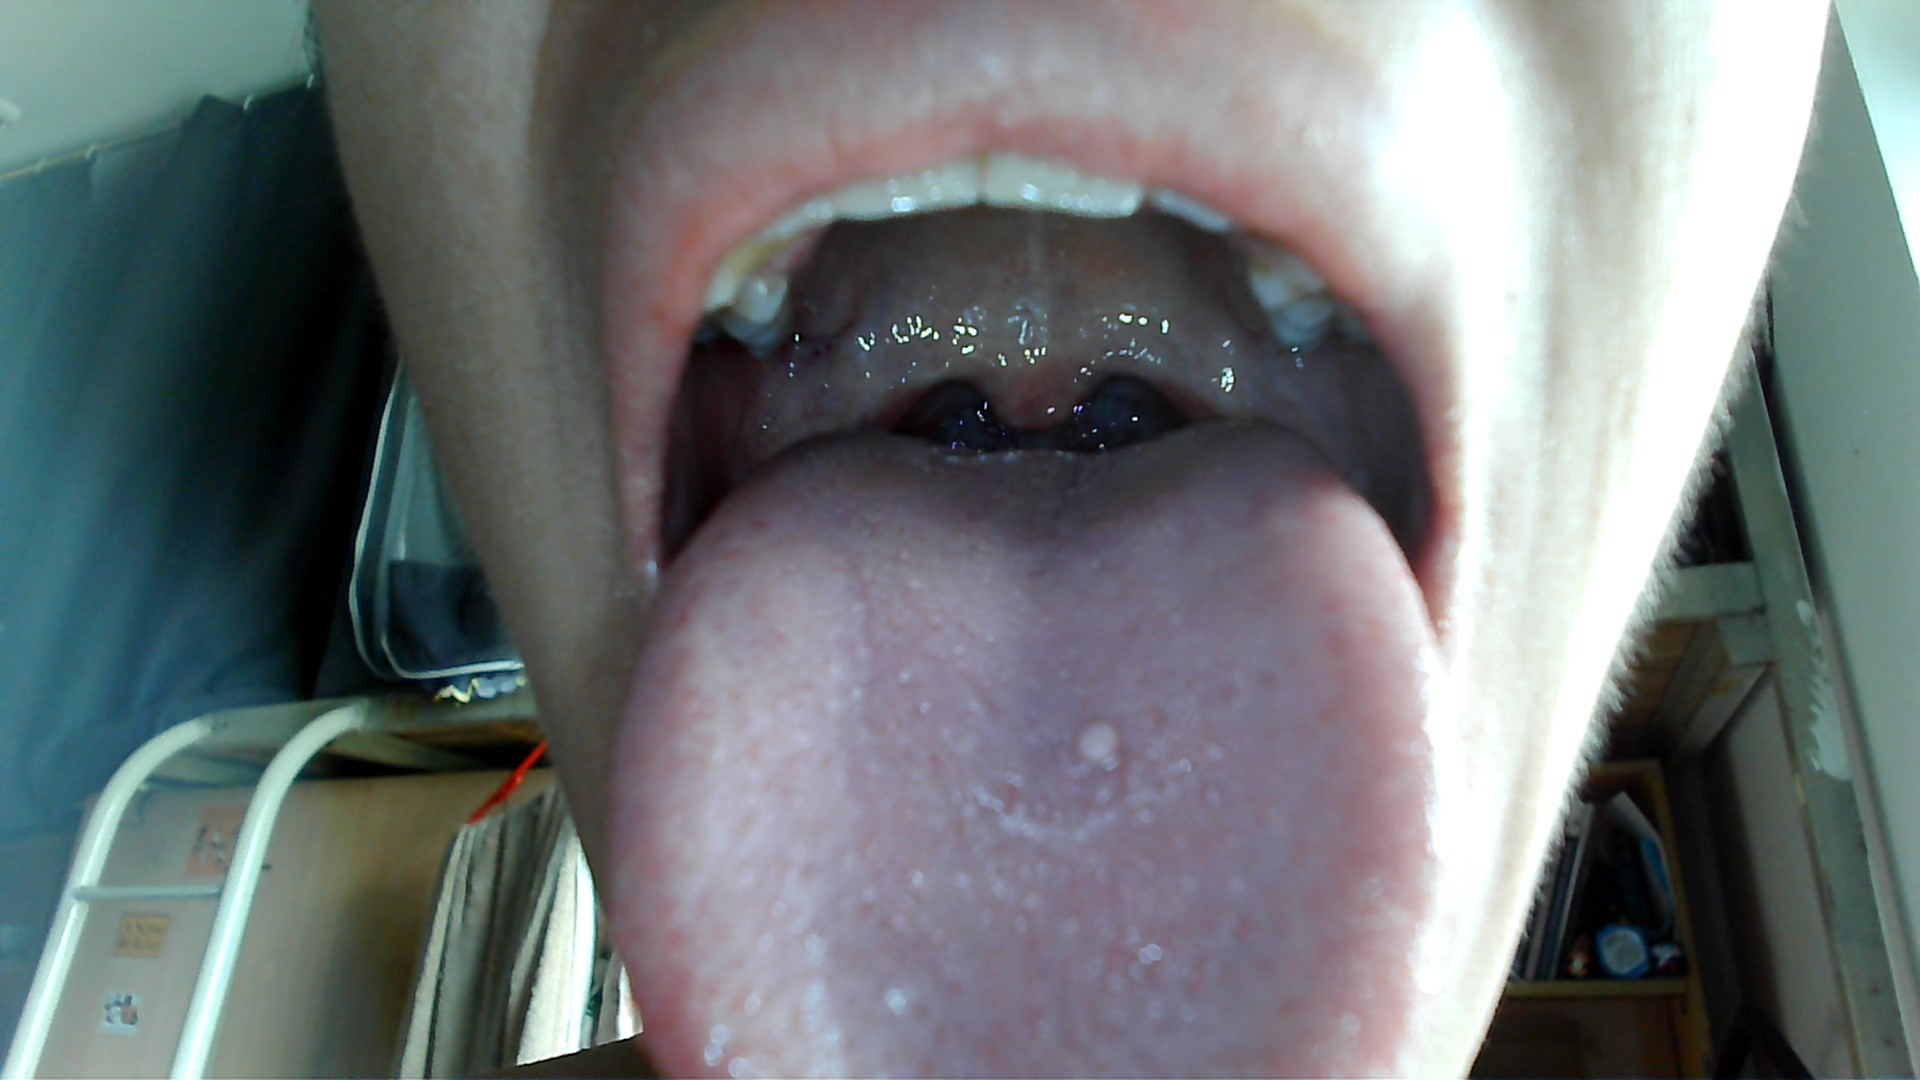throat: (1154, 309, 1234, 429), (855, 309, 934, 429)
